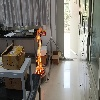fire: (35, 28, 44, 75)
